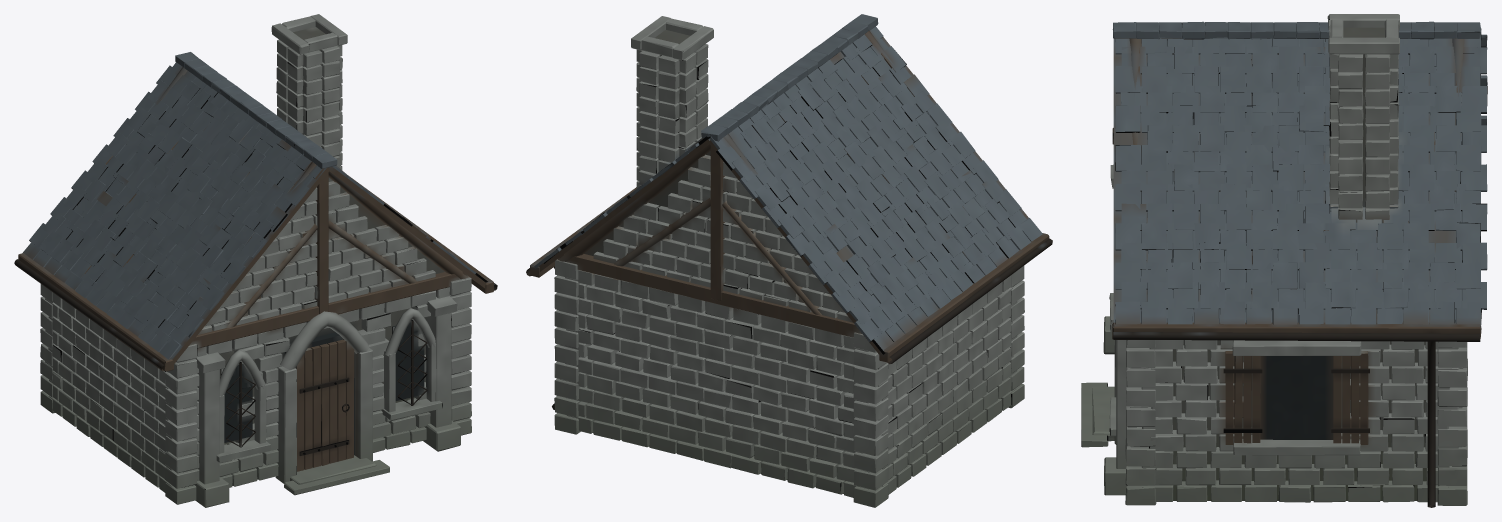
File: gothic-cottage-v01.glb
The picture shows the model from 3 angles, left to right: view 1: azimuth 30°, elevation 25°; view 2: azimuth 150°, elevation 25°; view 3: azimuth 270°, elevation 25°; orthographic projection. The views are drawn at different scales.
Visible parts, largest first — view 1: GothicCottage_LOD0; view 2: GothicCottage_LOD0; view 3: GothicCottage_LOD0.
Boxes of the visible parts, bbox=[...] form: GothicCottage_LOD0: bbox=[14, 14, 497, 507]; GothicCottage_LOD0: bbox=[526, 14, 1052, 507]; GothicCottage_LOD0: bbox=[1081, 14, 1487, 507].
Size of what is drawn, in the model's own units: 6.48 by 6.48 by 5.43.
1 material, 1 textured.
